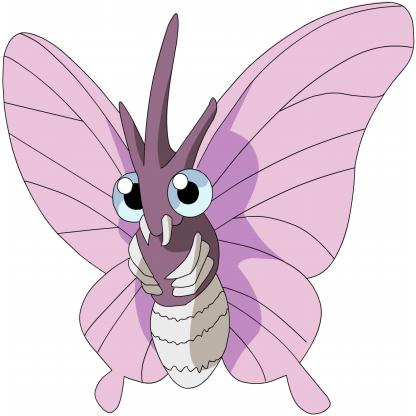Venomoth: (2, 9, 416, 413)
